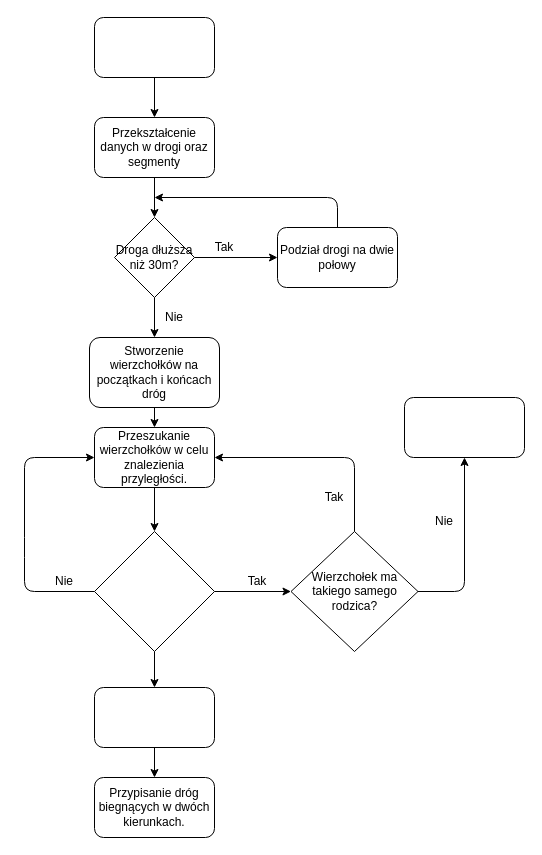
The diagram is 542 pixels wide and 855 high, and some of its shapes have lost their labels. The shapes that lost their labels are listed below. From the top down, each one's centre as x and y in pixels, then its label:
the point at 154,47: Pobranie danych CartoDB
the point at 464,427: Stwórz połączenie pomiędzy wierzchołkami.
the point at 154,591: Wierzchołek w odległości mniejszej niż 40m
the point at 154,717: Odnalezienie wyizolowanych wierchołków
